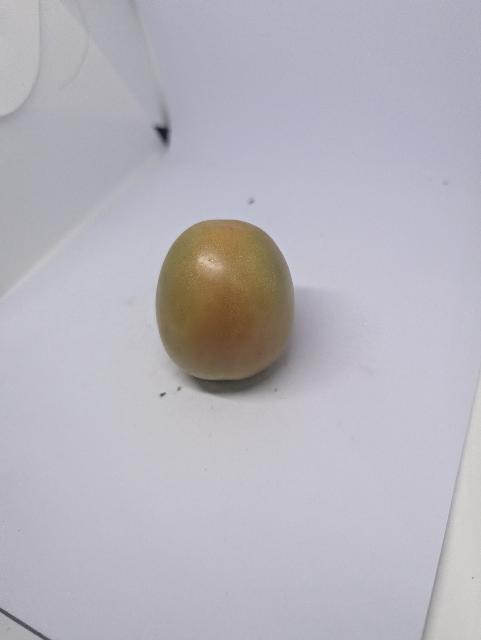breaker: (156, 220, 294, 380)
